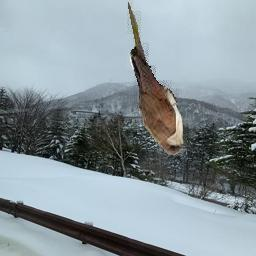Cuckoo: (128, 0, 189, 155)
